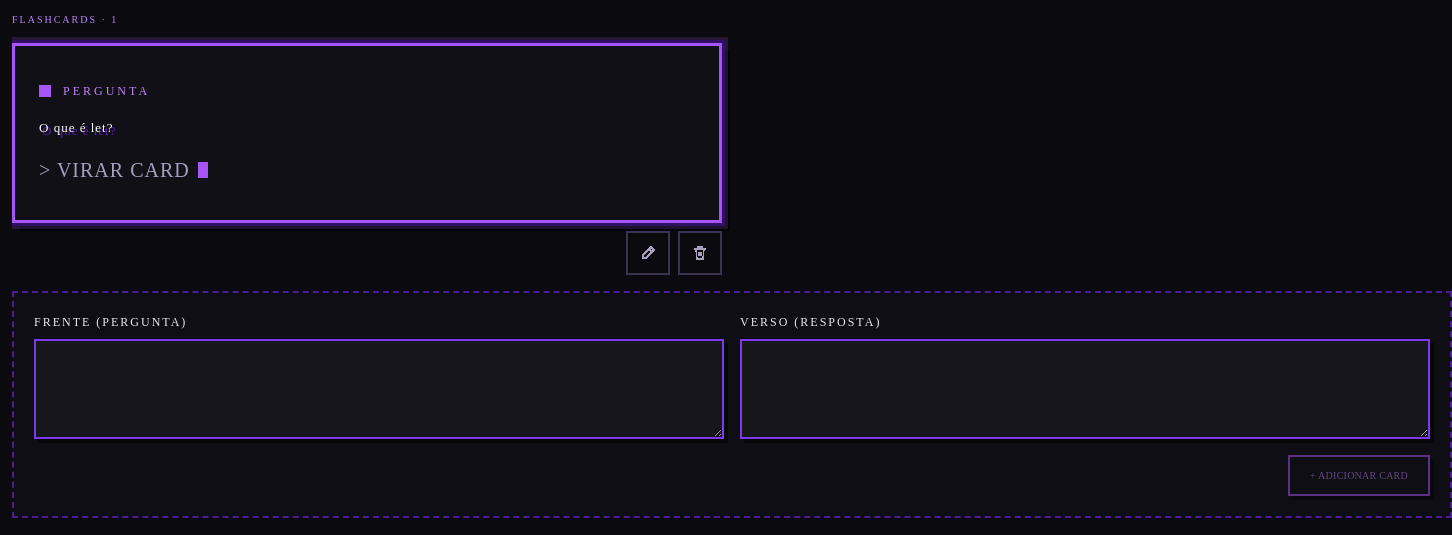
Test case: virar card troca pergunta por resposta
Click the button "PERGUNTA O que é let? > VIRAR CARD". click: (107, 91)
box: [12, 43, 722, 223]
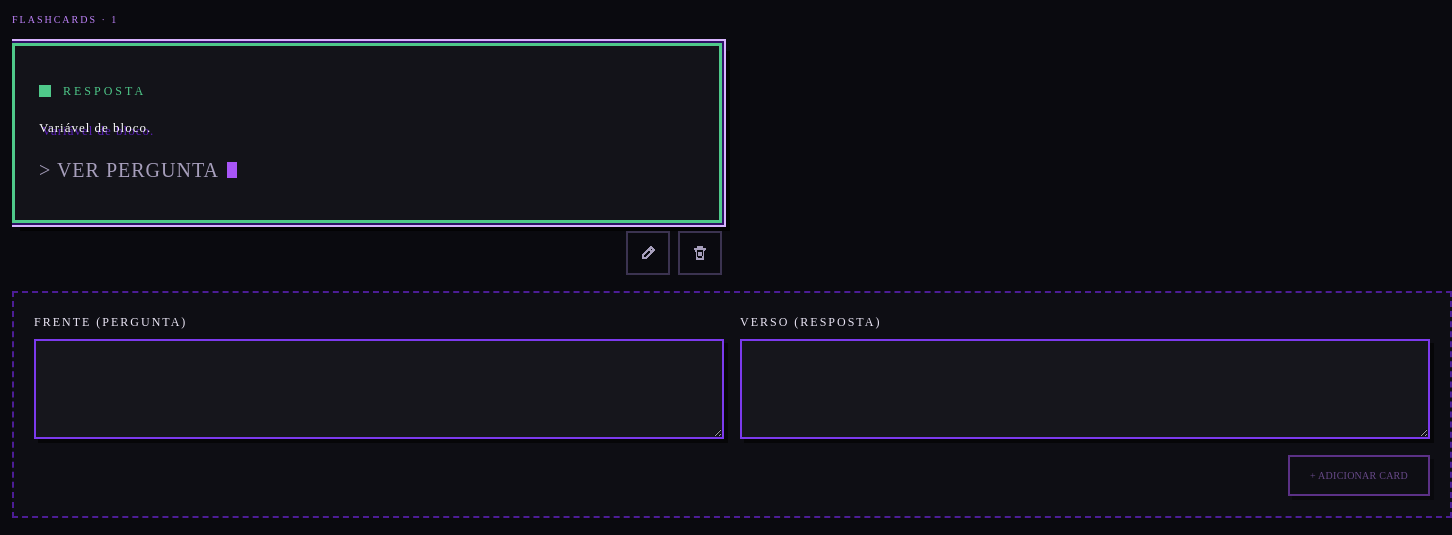
expect the button "RESPOSTA Variável de bloco. > VER PERGUNTA" is shown: met, box [12, 43, 722, 223]
expect the button "RESPOSTA Variável de bloco. > VER PERGUNTA" no longer shows "O que é let?": met, box [12, 43, 722, 223]
